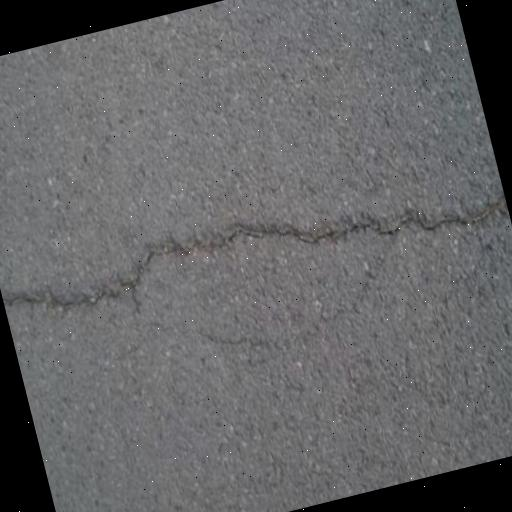spalling: (6, 194, 506, 332)
